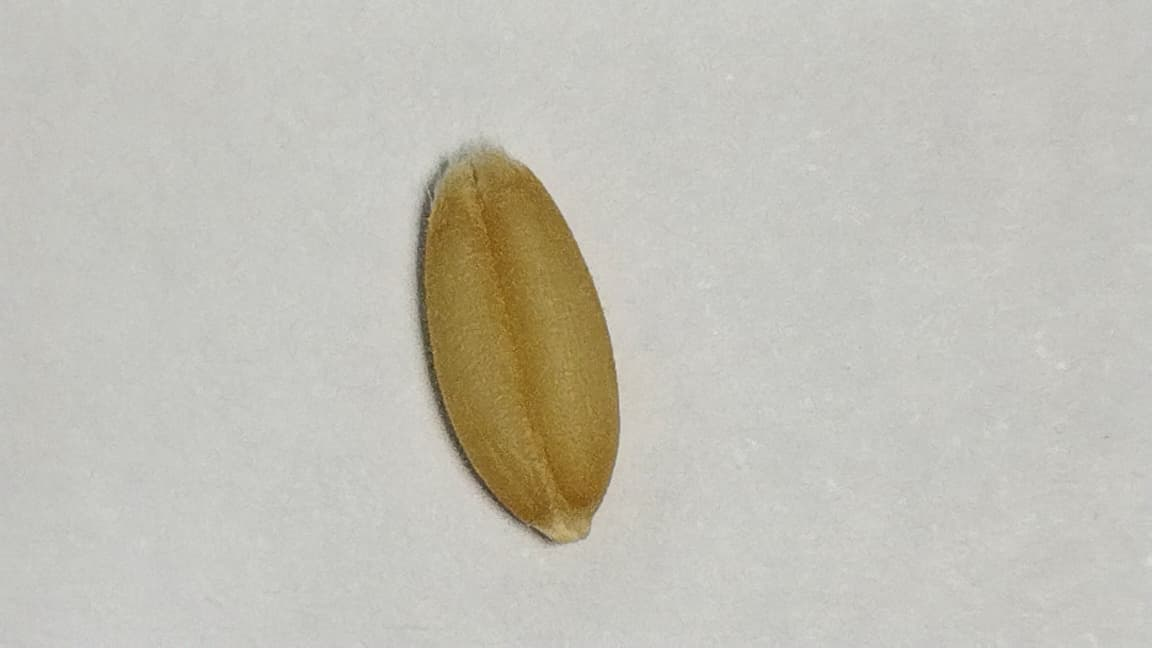healthy: (425, 151, 615, 521)
